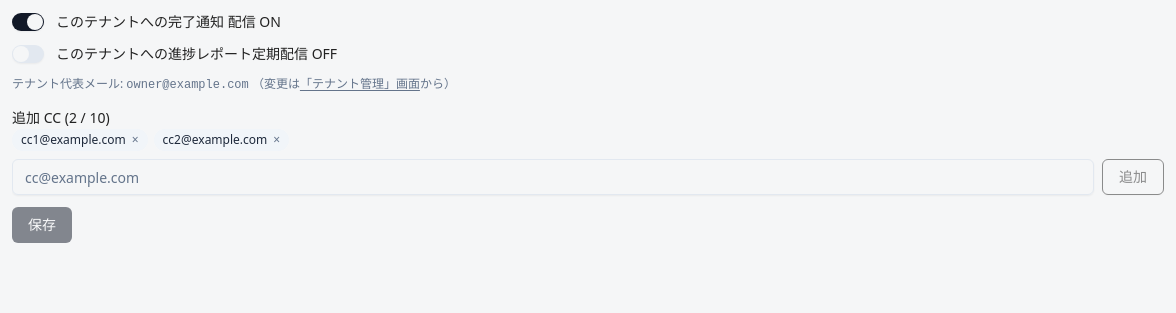
Scenario: TenantCcForm › 保存で PUT を呼び成功メッセージを出す
Expected: the text "cc2@example.com" is shown, [163,131,267,148]
Note: 1 件削除して保存
Click the button named "cc2@example.com を削除": x=277, y=140 [273,132,280,148]
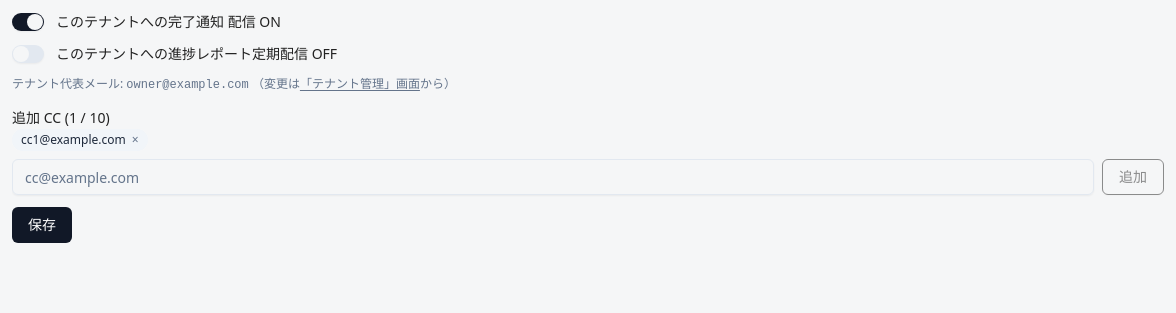
Click the button "保存": x=42, y=225 [12,207,72,243]
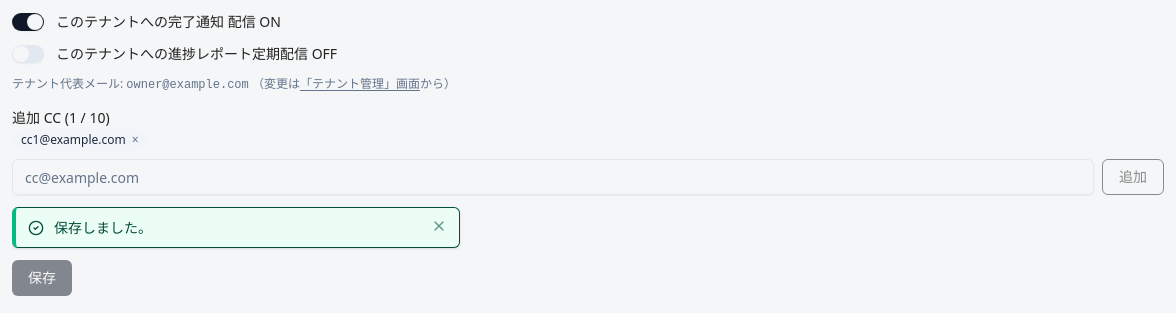
Now the text "保存しました。" is shown, box [54,218,152,237]
Now the button "保存" is disabled, box [12,260,72,296]
